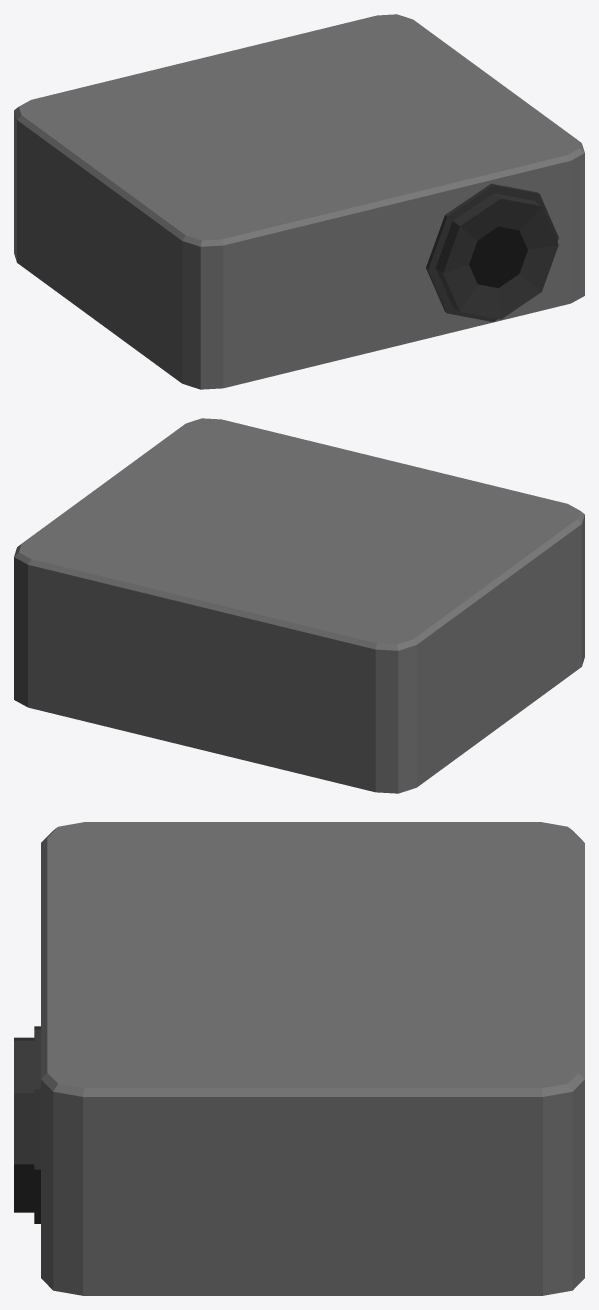
The model's file is Projector.fbx.
3 views of the same model, one above another, from view 1: azimuth 30°, elevation 25°; view 2: azimuth 150°, elevation 25°; view 3: azimuth 270°, elevation 25° (orthographic). The views are drawn at different scales.
Visible parts, largest first — view 1: Cube; view 2: Cube; view 3: Cube.
Part boxes in pixels (left/top/right/bottom): Cube: left=14, top=14, right=584, bottom=389; Cube: left=14, top=418, right=584, bottom=793; Cube: left=14, top=822, right=584, bottom=1295.
Size of the model in its own units: 41.89 by 14.73 by 37.21.
